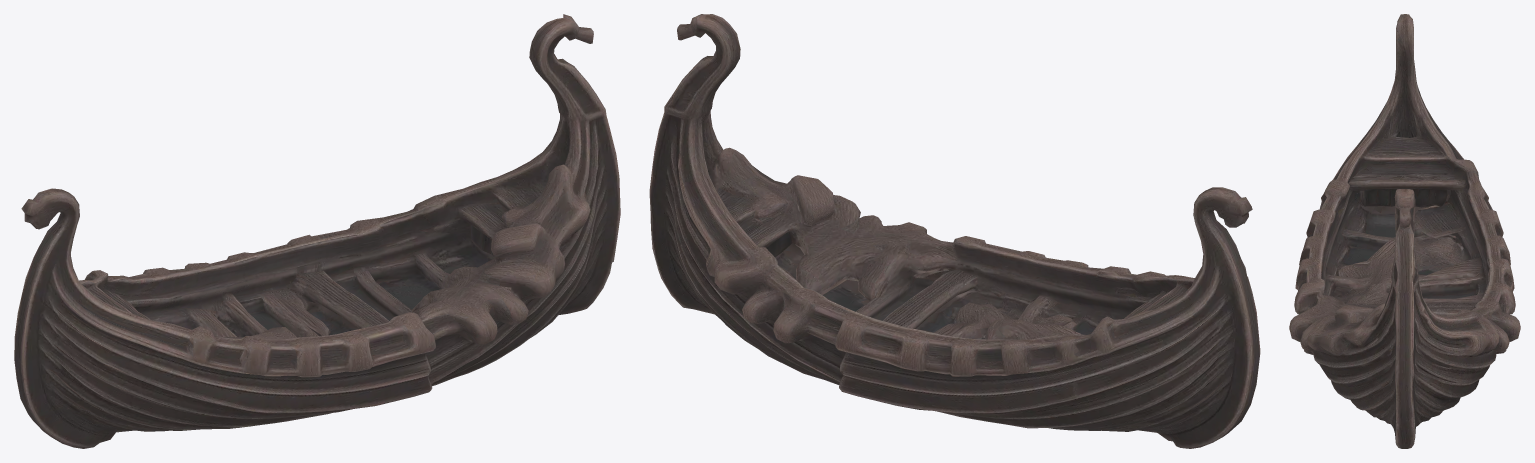
The model's file is longship-wreck.opt.glb.
The picture shows the model from 3 angles, left to right: view 1: azimuth 30°, elevation 25°; view 2: azimuth 150°, elevation 25°; view 3: azimuth 270°, elevation 25°; orthographic projection. The views are drawn at different scales.
Bounding box in the file's own units: 1.91 × 0.963 × 0.7474.
1 material, 1 textured.
